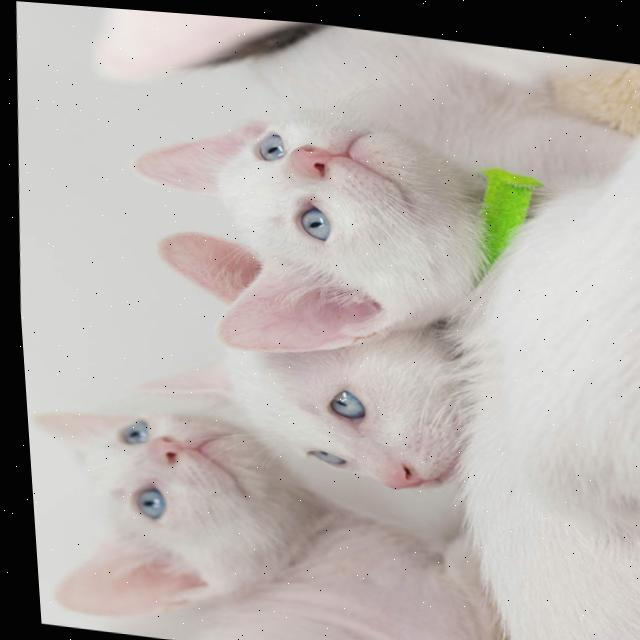Khao Manee: (94, 77, 640, 640), (21, 393, 490, 640), (93, 220, 472, 498)
